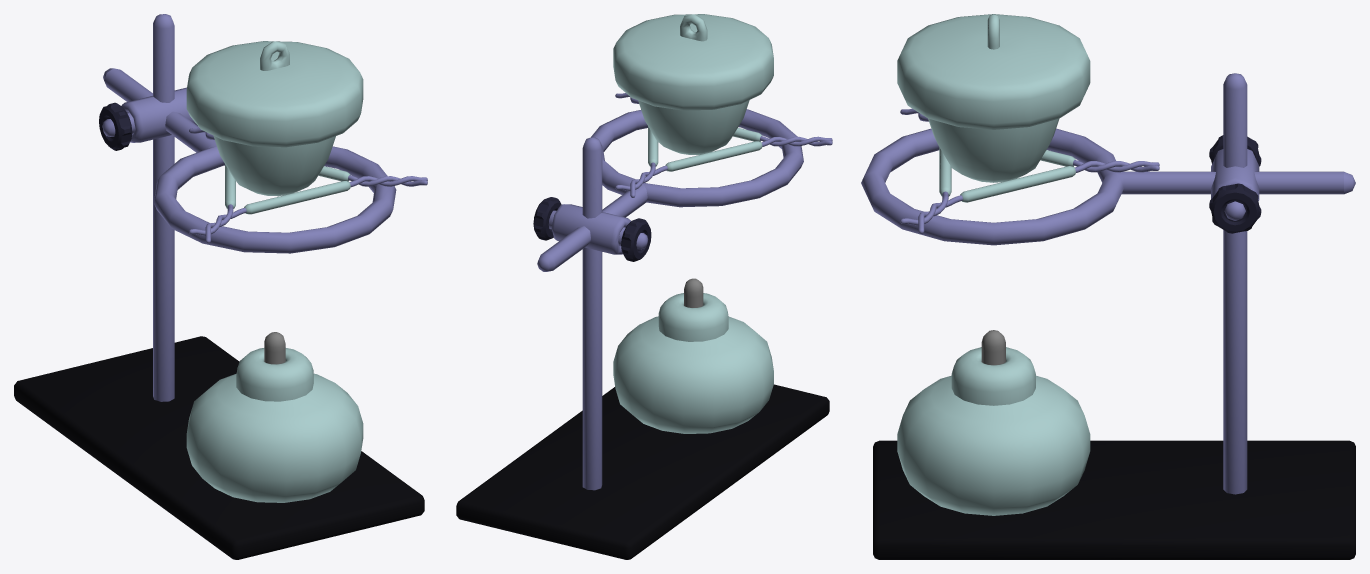
File: LastLuna_Model_Station_Smelter.fbx
3 renders of one model, left to right at view 1: azimuth 30°, elevation 25°; view 2: azimuth 150°, elevation 25°; view 3: azimuth 270°, elevation 25°, orthographic. The views are drawn at different scales.
Parts seen in each view (by area): view 1: Stand_Base001, Alcohol_Lamp001, Crucible_Lid001, Stand_Arm_Ring001, Stand_Pole001, Crucible001, Stand_Fixture001, Clay_Triangle001, Clay_Triangle_Wire001, Stand_Fixture_Handle001, Alcohol_Lamp_Wick001; view 2: Stand_Base001, Alcohol_Lamp001, Crucible_Lid001, Stand_Arm_Ring001, Stand_Pole001, Crucible001, Stand_Fixture001, Stand_Fixture_Handle001, Clay_Triangle001, Clay_Triangle_Wire001, Alcohol_Lamp_Wick001; view 3: Stand_Base001, Alcohol_Lamp001, Crucible_Lid001, Stand_Arm_Ring001, Stand_Pole001, Crucible001, Clay_Triangle001, Stand_Fixture_Handle001, Clay_Triangle_Wire001, Stand_Fixture001, Alcohol_Lamp_Wick001.
Part boxes in pixels (box(x1,y1,x2,y2)): Stand_Base001: box(14, 336, 424, 559); Alcohol_Lamp001: box(186, 348, 363, 502); Crucible_Lid001: box(186, 41, 363, 147); Stand_Arm_Ring001: box(103, 68, 396, 253); Stand_Pole001: box(153, 14, 174, 401); Crucible001: box(213, 135, 335, 196); Stand_Fixture001: box(102, 87, 197, 142); Clay_Triangle001: box(225, 164, 350, 214); Clay_Triangle_Wire001: box(189, 128, 427, 243); Stand_Fixture_Handle001: box(99, 102, 132, 150); Alcohol_Lamp_Wick001: box(264, 332, 285, 364); Stand_Base001: box(456, 384, 829, 559); Alcohol_Lamp001: box(613, 293, 773, 433); Crucible_Lid001: box(613, 14, 773, 110); Stand_Arm_Ring001: box(537, 109, 803, 271); Stand_Pole001: box(582, 137, 602, 490); Crucible001: box(638, 100, 749, 154); Stand_Fixture001: box(548, 204, 648, 254); Stand_Fixture_Handle001: box(533, 197, 651, 261); Clay_Triangle001: box(648, 126, 762, 171); Clay_Triangle_Wire001: box(615, 93, 832, 197); Alcohol_Lamp_Wick001: box(684, 278, 703, 307); Stand_Base001: box(873, 440, 1355, 559); Alcohol_Lamp001: box(897, 347, 1090, 515); Crucible_Lid001: box(897, 14, 1090, 129); Stand_Arm_Ring001: box(861, 128, 1355, 245); Stand_Pole001: box(1223, 73, 1247, 494); Crucible001: box(928, 118, 1059, 182); Clay_Triangle001: box(939, 147, 1075, 202); Stand_Fixture_Handle001: box(1209, 135, 1261, 233); Clay_Triangle_Wire001: box(900, 108, 1159, 233); Stand_Fixture001: box(1211, 149, 1259, 220); Alcohol_Lamp_Wick001: box(981, 330, 1005, 365).
Bounding box in the file's own units: 48.73 × 89.36 × 80.71.
